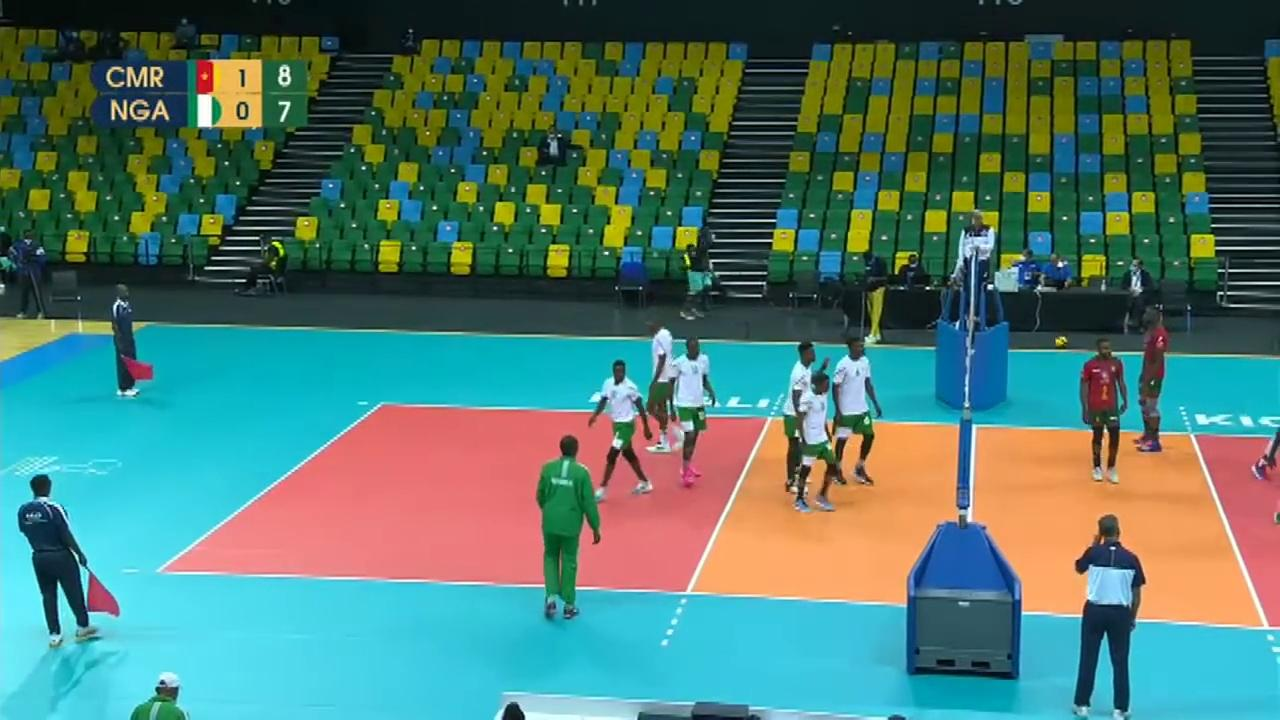player: (587, 364, 656, 495), (828, 338, 885, 490), (794, 373, 849, 521), (663, 339, 717, 486), (779, 334, 829, 484), (1081, 343, 1128, 482), (1138, 303, 1171, 454), (645, 317, 682, 447)
refree: (16, 473, 116, 648), (1074, 516, 1148, 718), (955, 206, 1000, 320), (111, 284, 150, 395)
